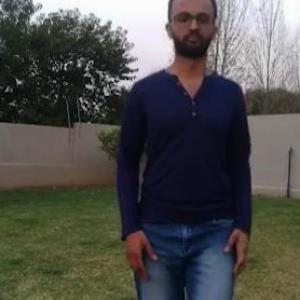follow: (143, 0, 243, 299)
